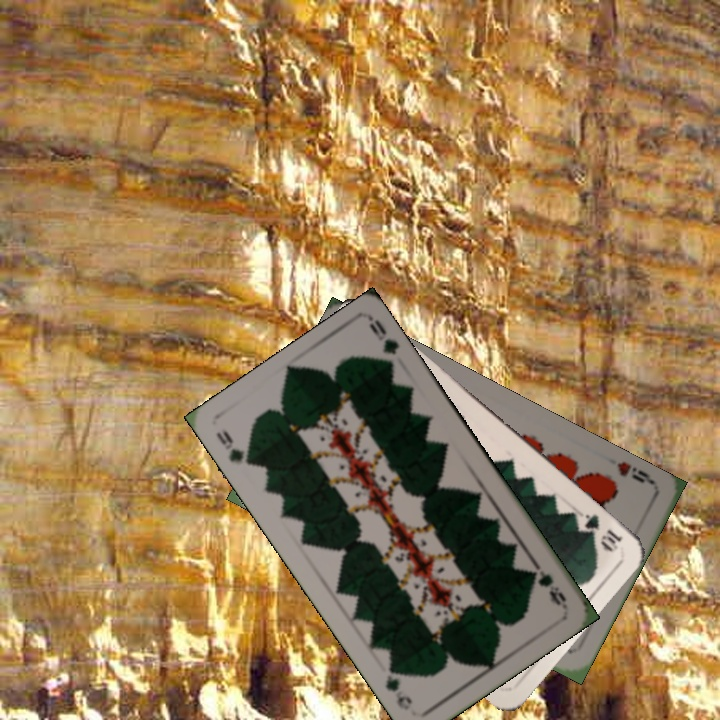G10: (575, 508, 626, 554)
G9: (525, 558, 569, 610), (211, 426, 259, 470)
H9: (613, 457, 658, 488)
